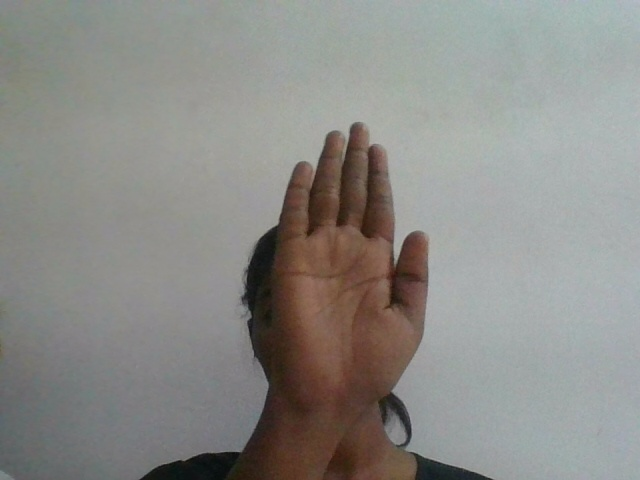Hello: (260, 115, 443, 434)
